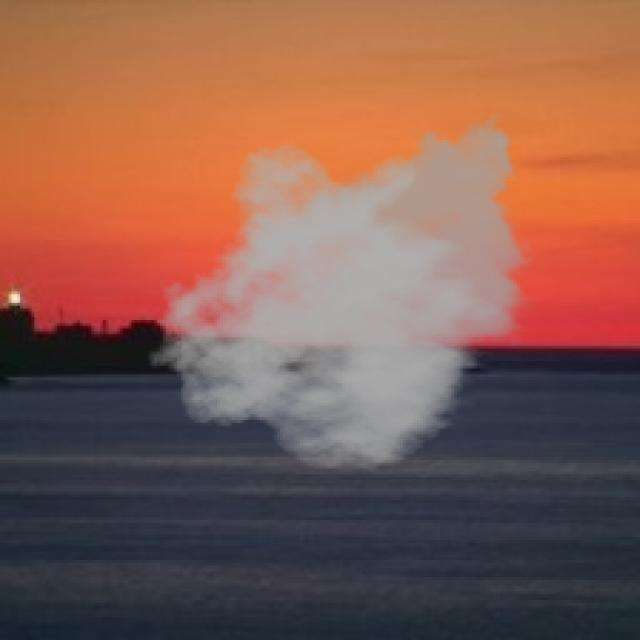smoke: (146, 106, 537, 471)
